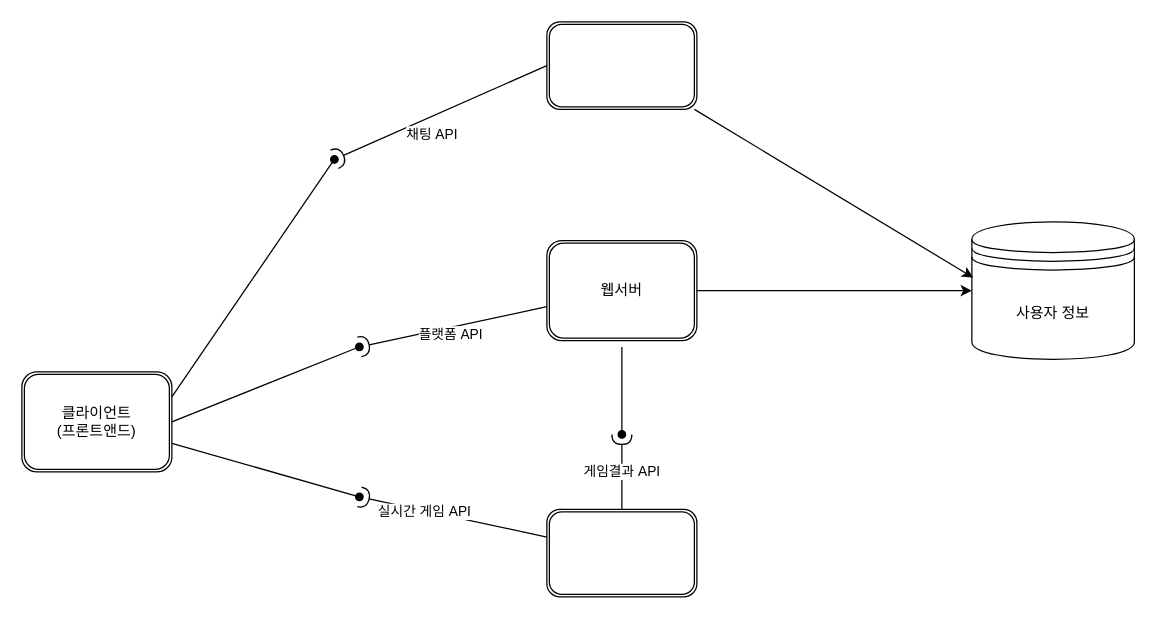
Some shapes in this 1156 by 619 pixel diagram are drawn without their labels. The centre of each missing label's shape, as x and y in pixels:
실시간 게임서버: (621,552)
채팅 서버: (621,65)
